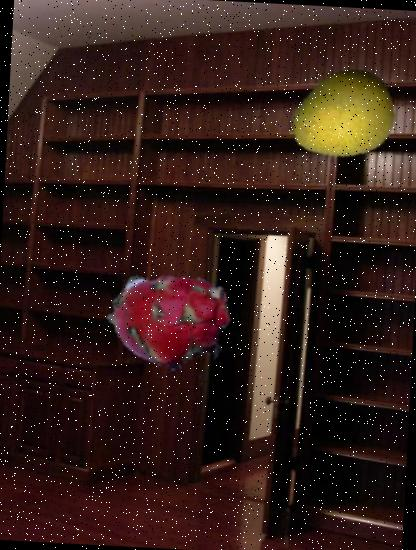Pear: (284, 57, 400, 173)
Pitahaya: (104, 254, 235, 385)
